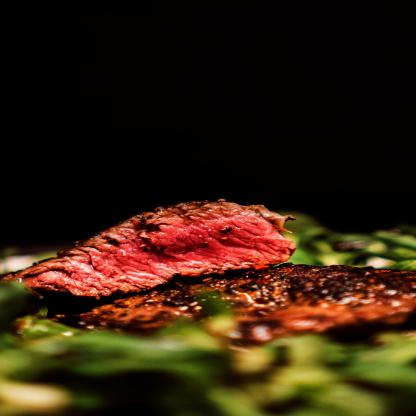Carne: (14, 196, 302, 308), (77, 267, 415, 332)
